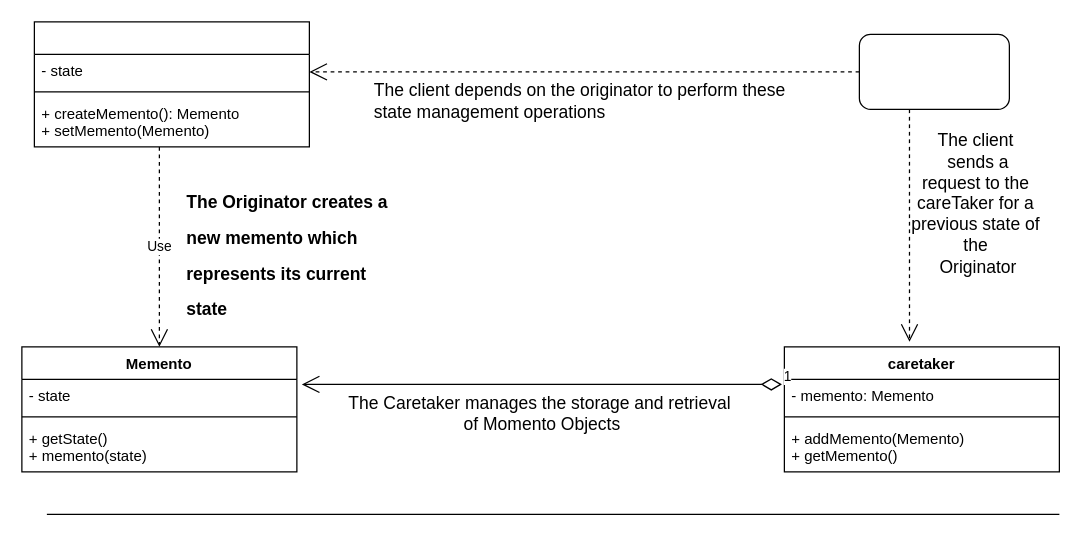
The diagram is 1081 pixels wide and 541 high, and some of its shapes have lost their labels. Here are the shapes that lost their labels. From the top down, the box of each, then its label:
(33, 21, 309, 147): Originator
(858, 33, 1009, 109): Client
